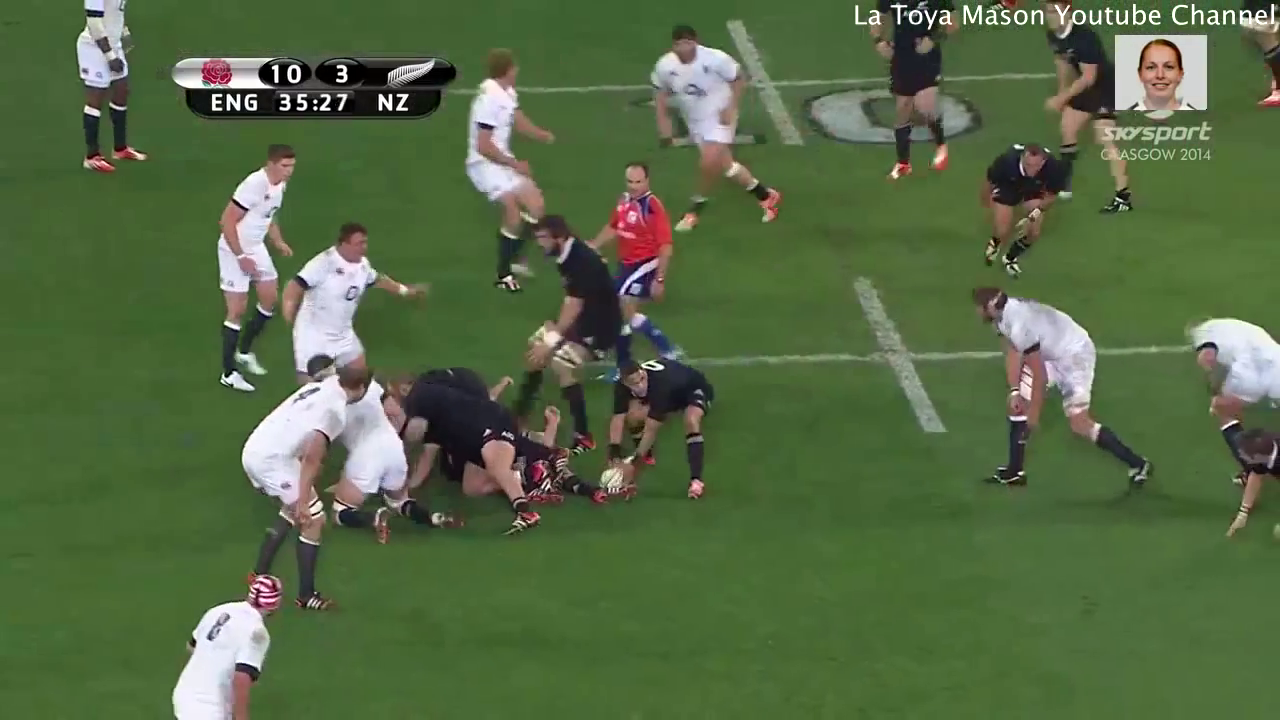10_metre: (613, 258, 1280, 450), (417, 8, 1183, 162)
ball: (579, 454, 643, 505)
player: (959, 274, 1159, 505), (220, 347, 379, 622), (636, 16, 792, 240), (510, 195, 629, 461), (382, 359, 541, 556), (277, 212, 439, 399), (461, 33, 566, 309), (211, 136, 308, 404), (578, 155, 689, 386), (1031, 1, 1142, 222), (588, 348, 717, 517), (857, 1, 965, 194), (158, 561, 289, 720), (1181, 307, 1280, 487), (63, 1, 153, 181), (973, 137, 1057, 280), (1205, 419, 1280, 550)
